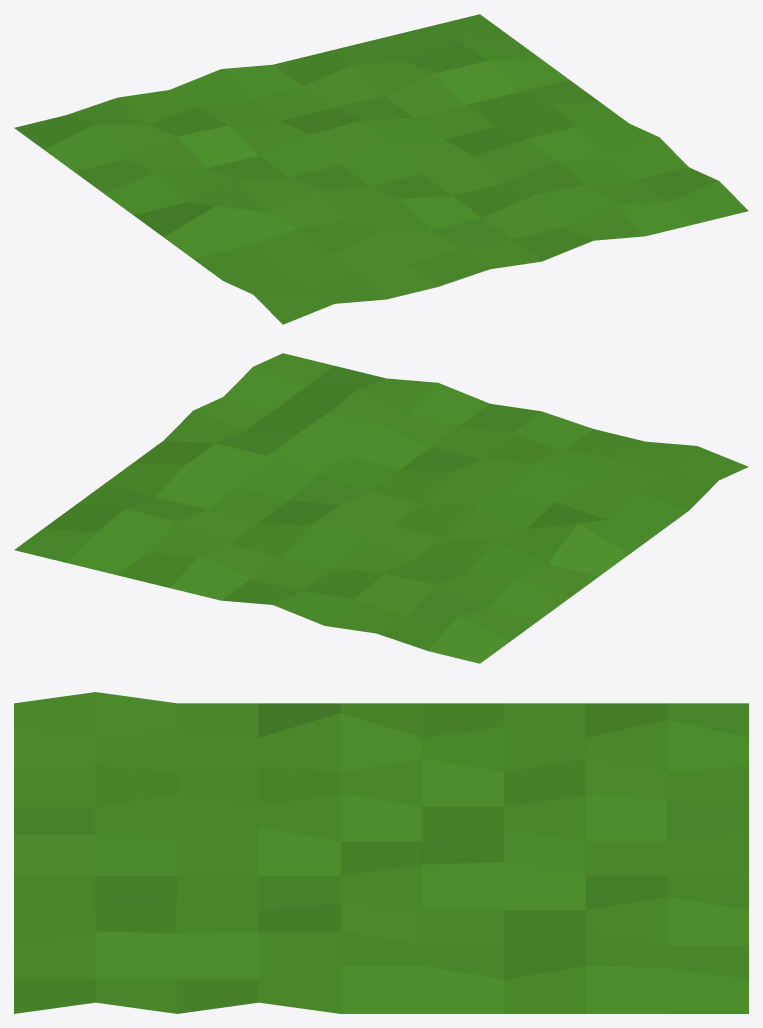
The model's file is rough_plane_grass.fbx.
3 views of the same model, one above another, from view 1: azimuth 30°, elevation 25°; view 2: azimuth 150°, elevation 25°; view 3: azimuth 270°, elevation 25° (orthographic). The views are drawn at different scales.
Parts seen in each view (by area): view 1: Grid; view 2: Grid; view 3: Grid.
Part boxes in pixels (x1,y1,x2,y2): Grid: (14,14,748,324); Grid: (14,353,748,663); Grid: (14,692,748,1013).
Bounding box in the file's own units: 1600 × 59.85 × 1600.
